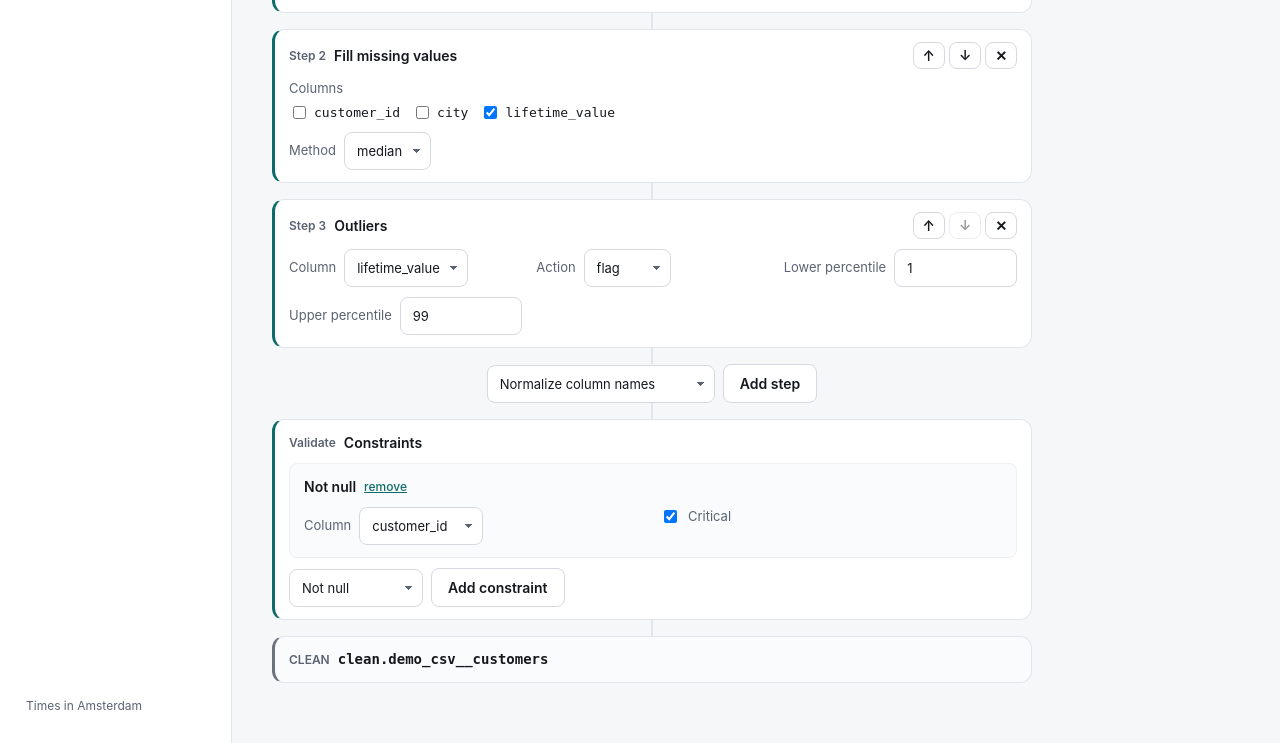
it: the pipeline builder › adds a step that drops duplicate rows
(page scrolled)
Check: the element named "Step 3 · Outliers" is shown, box [272,199,1032,348]
Select "Drop duplicate rows" in the dropdown named "Step type": [601, 384] box [487,365,715,403]
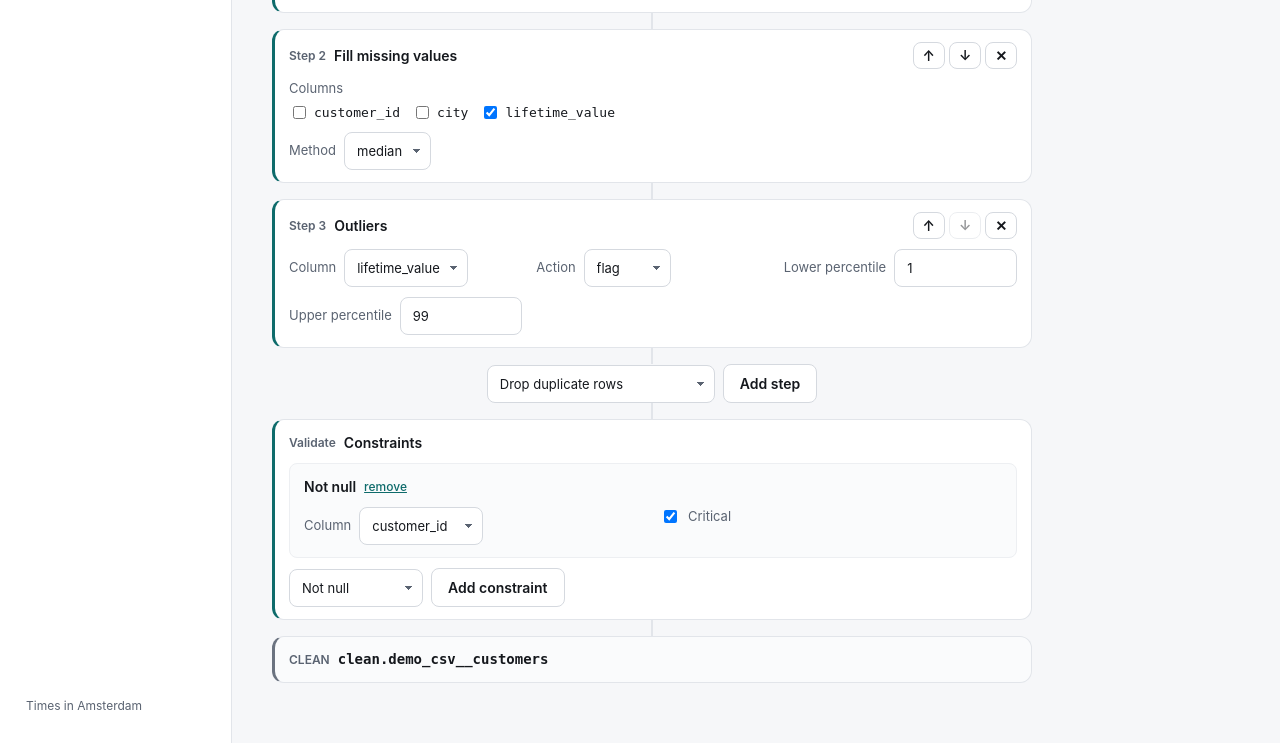
Click the button "Add step": [770, 384] box [723,364,817,403]
(page scrolled)
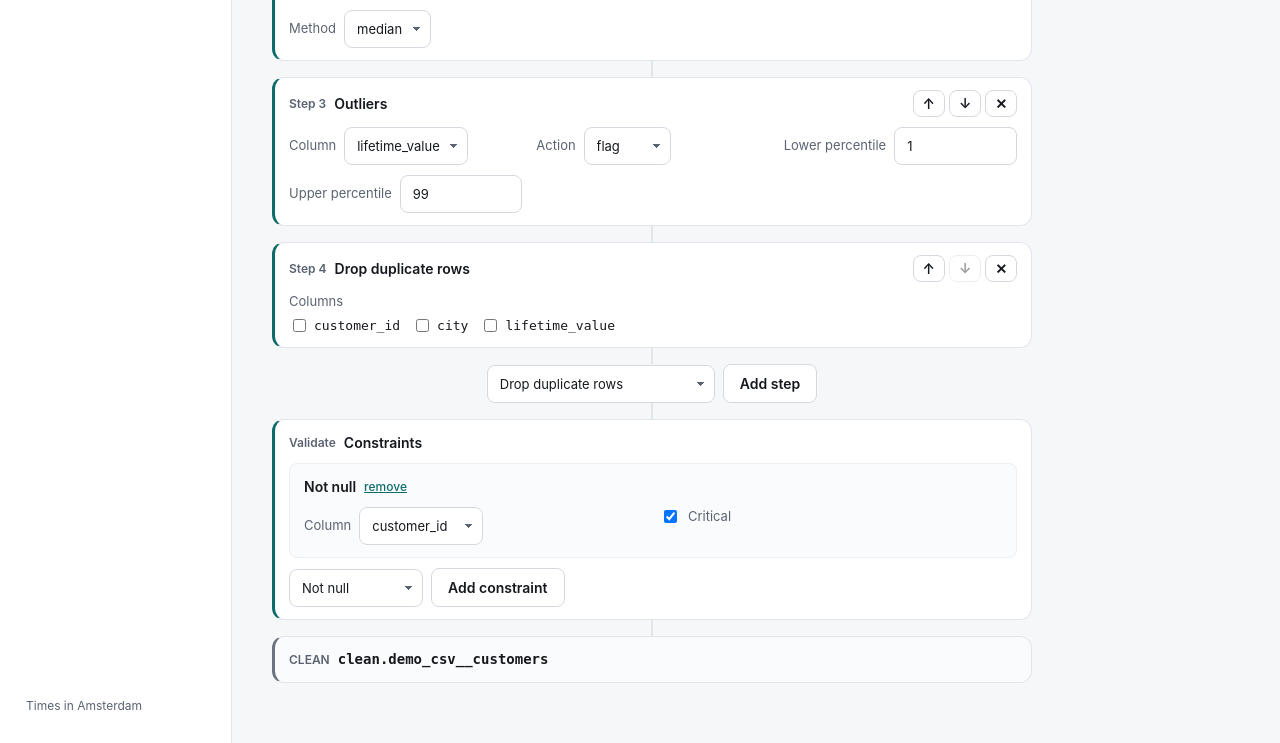
Check: the element named "Step 4 · Drop duplicate rows" is shown, box [272,242,1032,348]
